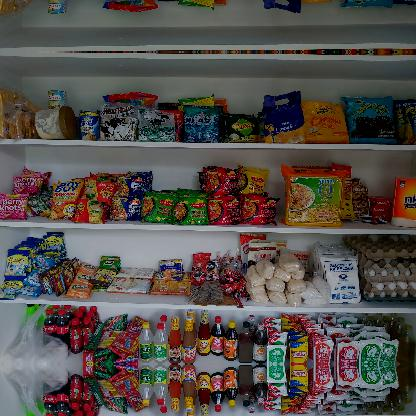Lady-s-Choice: (35, 106, 77, 140)
